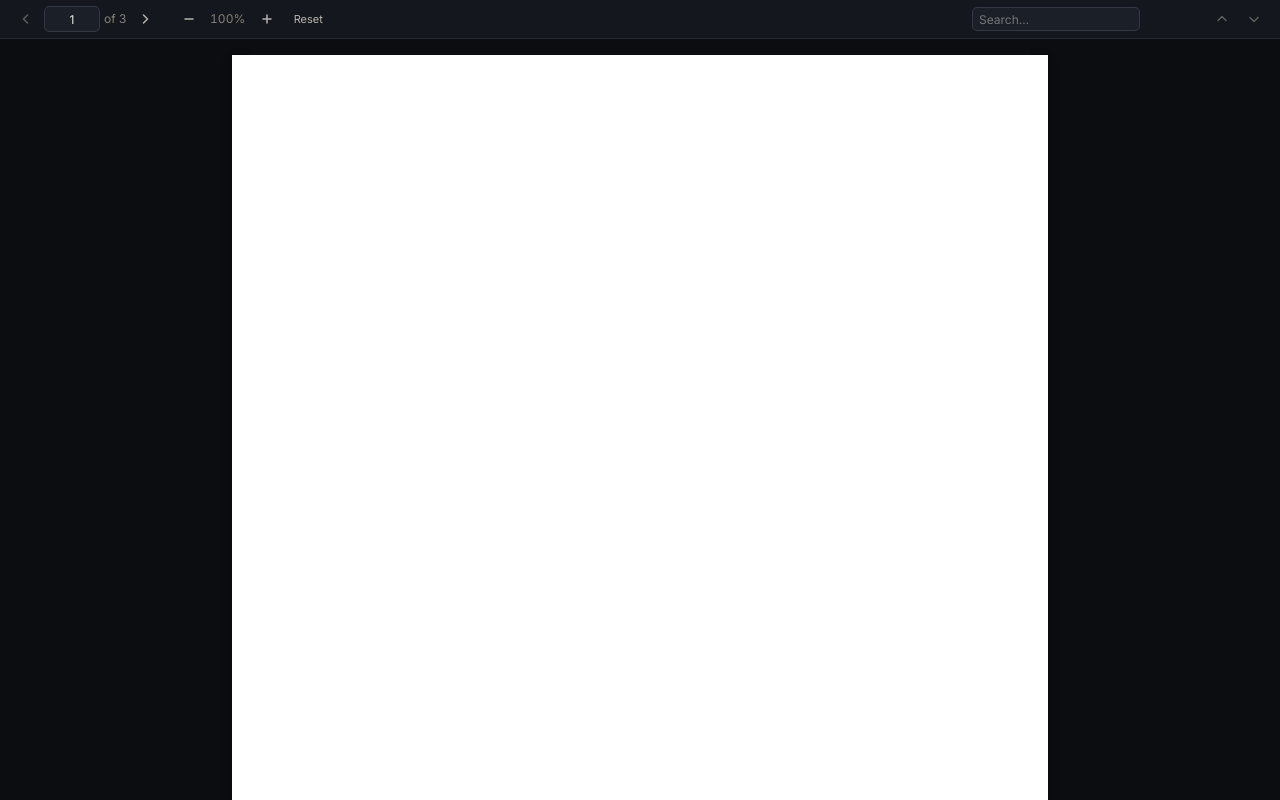
PDV-FR-KJWR: logging › PDV-FR-KJWR: the search text and the page text never reach a log record
Type "alpha" into the search field named "Search text". click: (1056, 19)
box: [972,7,1140,31]
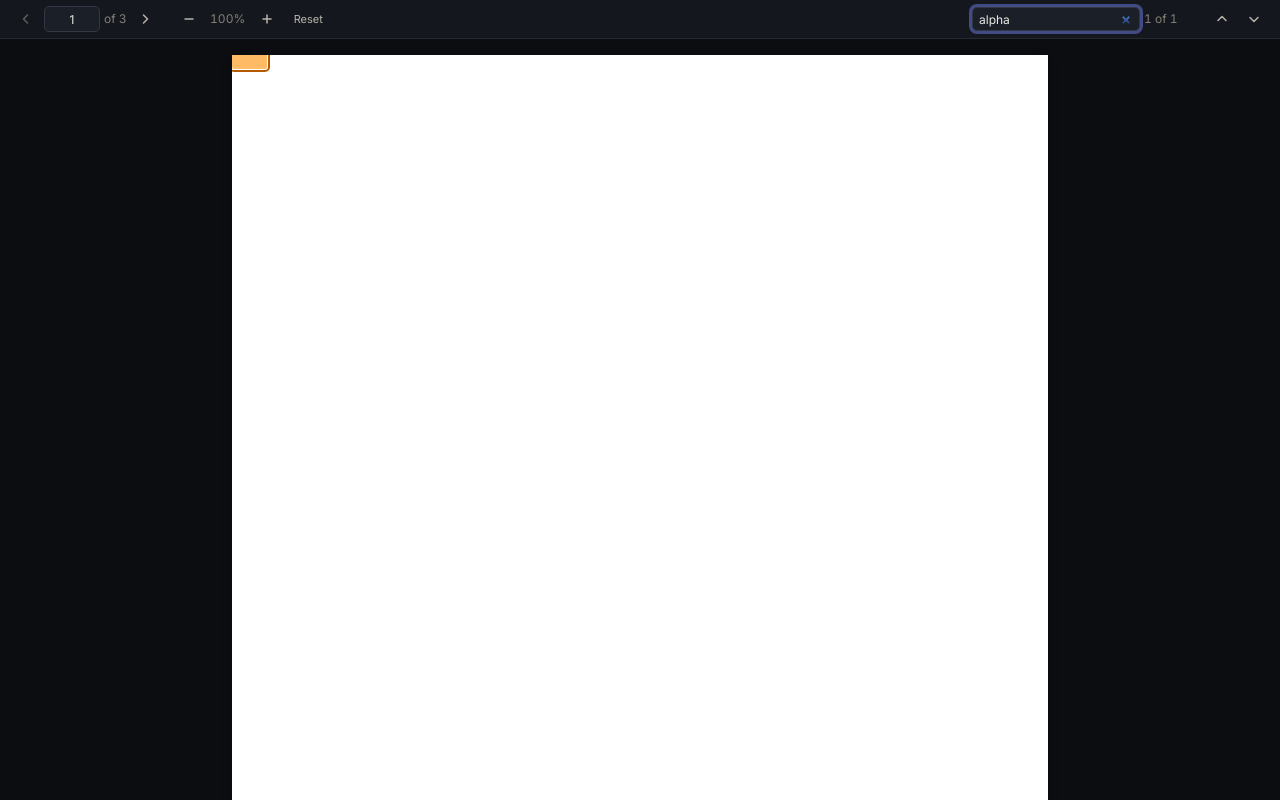
Expected: the text "1 of 1" is shown, [1144,11,1178,26]
